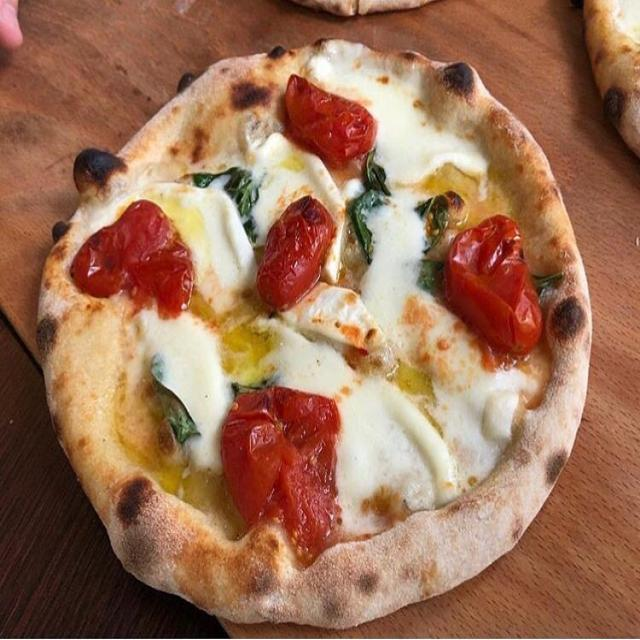basil: (179, 168, 255, 238), (346, 148, 391, 266), (149, 354, 201, 445), (406, 193, 444, 255), (530, 270, 567, 297), (413, 260, 444, 290)
pizza: (35, 34, 595, 634)
tomatoes: (221, 385, 342, 562), (66, 198, 196, 321), (444, 214, 544, 362), (254, 194, 337, 314), (283, 70, 377, 168)
